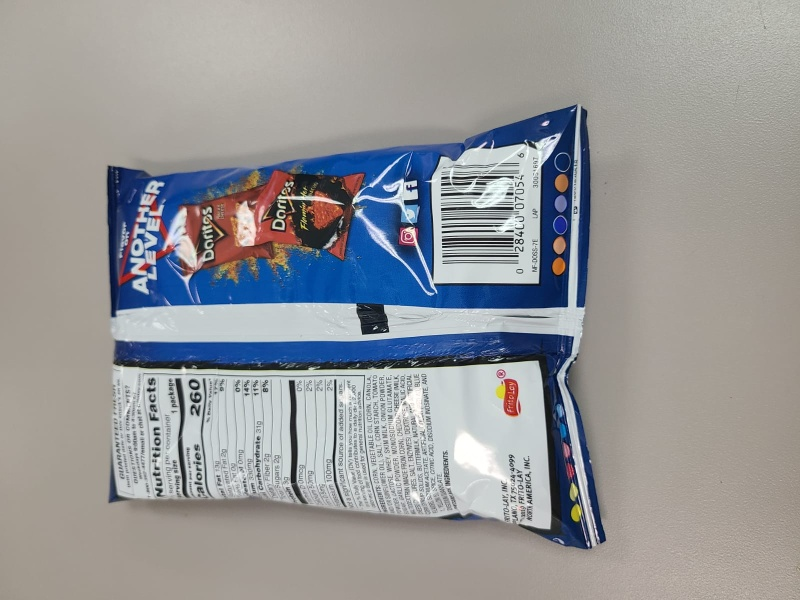doritos: (106, 103, 608, 551)
